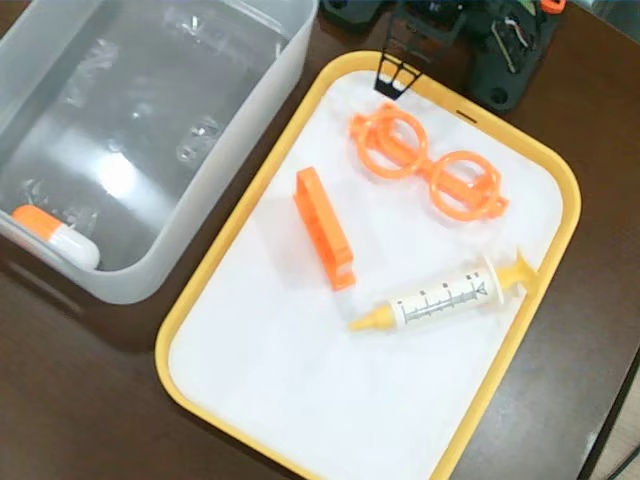pill: (10, 201, 105, 269)
syringe: (345, 246, 540, 337)
